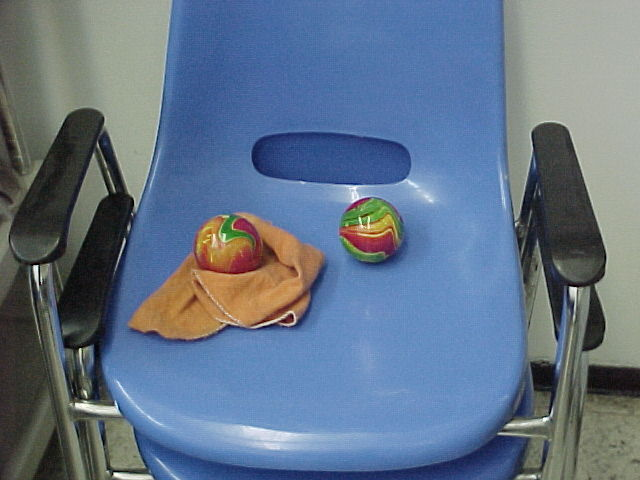WONDERBALL: (339, 196, 405, 267), (199, 209, 264, 277)
